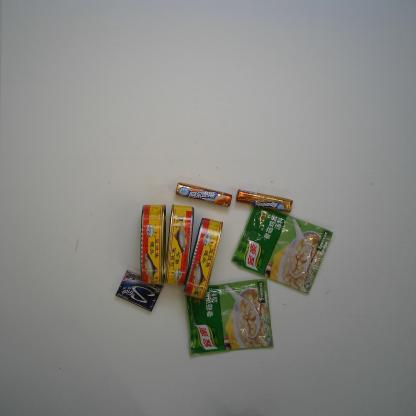Candy: (175, 182, 232, 207), (236, 189, 294, 213)
Canned Food: (183, 217, 223, 300), (163, 204, 195, 286), (140, 204, 167, 287)
Gum: (116, 270, 163, 312)
Seasoner: (231, 204, 333, 294), (182, 278, 274, 356)
